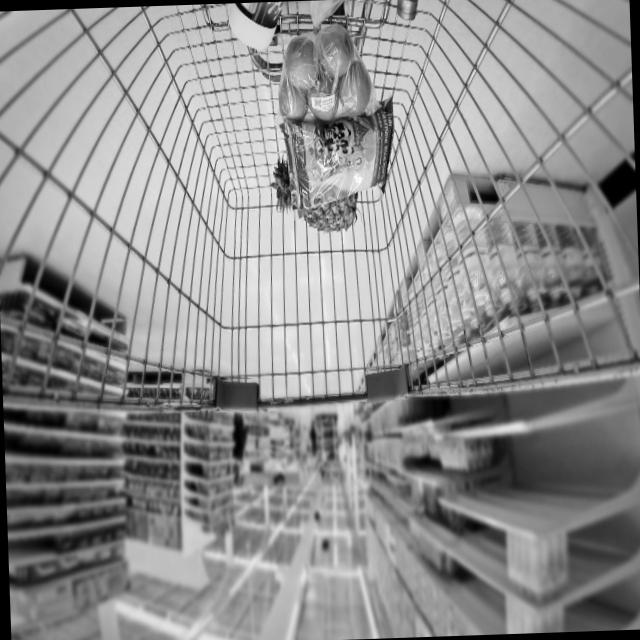apple: (269, 28, 374, 122)
milk: (226, 1, 286, 55)
pineapple: (270, 156, 360, 233)
